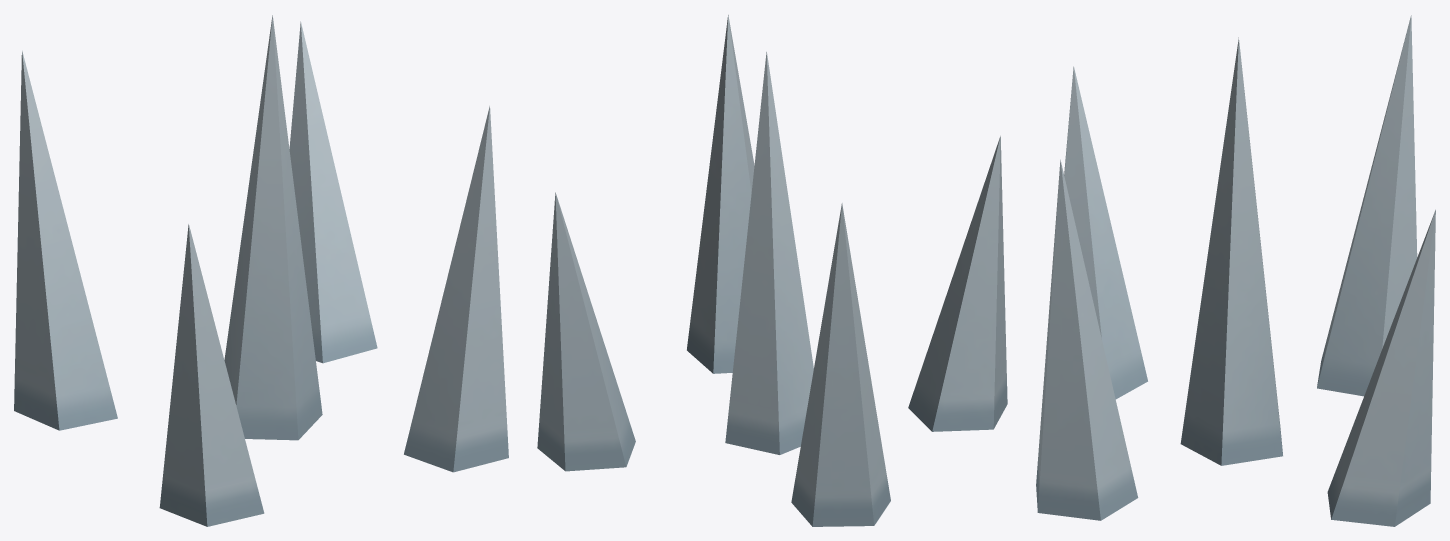
The model's file is spike_trap.FBX.
3 views of the same model, side by side, from view 1: azimuth 30°, elevation 25°; view 2: azimuth 150°, elevation 25°; view 3: azimuth 270°, elevation 25° (orthographic). The views are drawn at different scales.
Visible parts, largest first — view 1: spike_trap; view 2: spike_trap; view 3: spike_trap.
Boxes of the visible parts, x1,y1,x2,y2 form: spike_trap: (14,15,508,526); spike_trap: (537,15,1007,526); spike_trap: (1036,15,1435,526).
Bounding box in the file's own units: 636 × 699 × 621.
